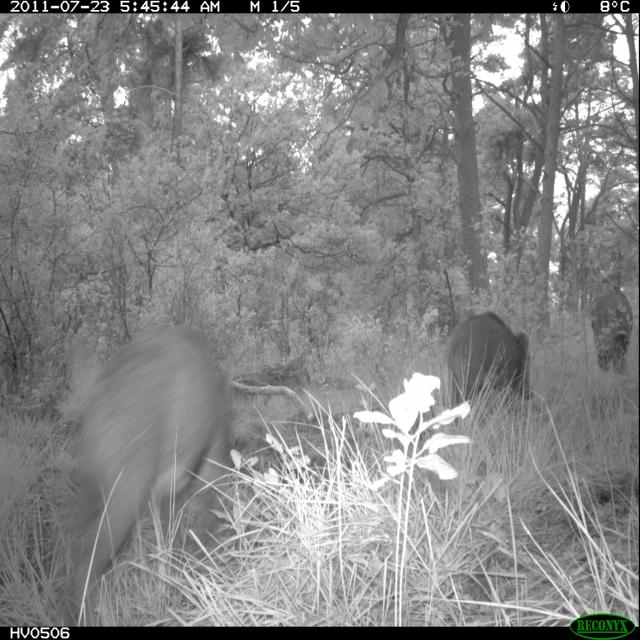boar: (19, 285, 254, 592), (435, 287, 549, 419), (576, 258, 640, 396)
